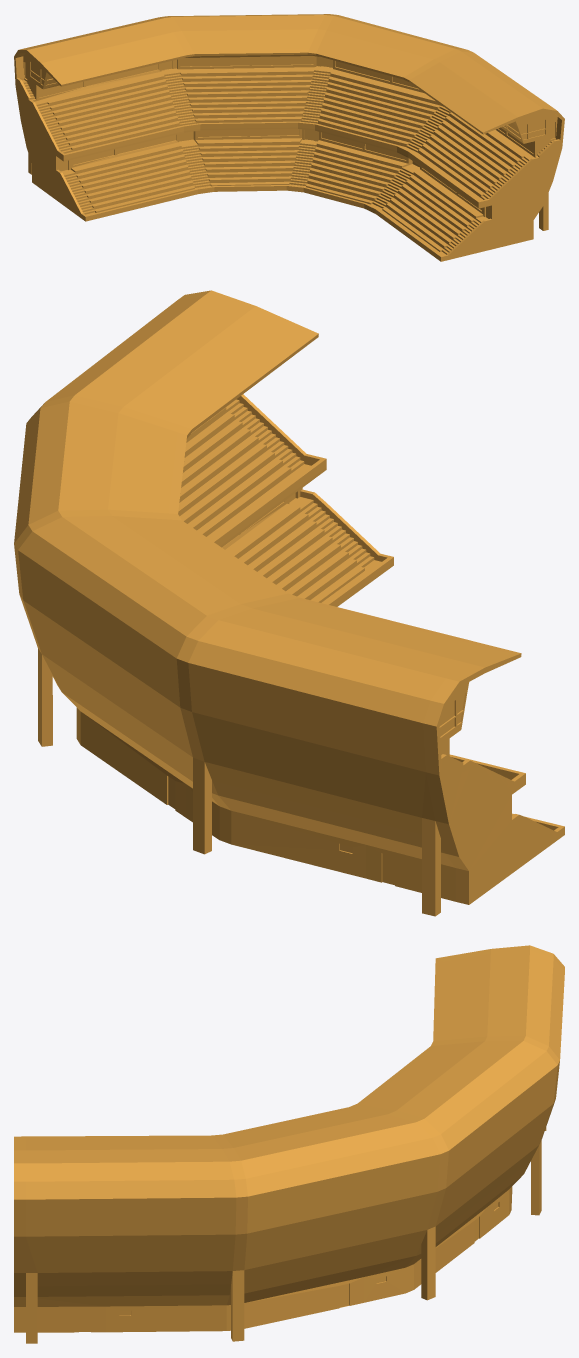
File: tribune-curve-double.fbx
The picture shows the model from 3 angles, top to bottom: view 1: azimuth 30°, elevation 25°; view 2: azimuth 150°, elevation 25°; view 3: azimuth 270°, elevation 25°; orthographic projection. The views are drawn at different scales.
Visible parts, largest first — view 1: tribune-curve-double; view 2: tribune-curve-double; view 3: tribune-curve-double.
Part boxes in pixels (x1=…): tribune-curve-double: x1=14, y1=14, x2=564, y2=261; tribune-curve-double: x1=14, y1=290, x2=564, y2=916; tribune-curve-double: x1=14, y1=945, x2=564, y2=1343.
Bounding box in the file's own units: 46.5 × 16.34 × 46.5.
